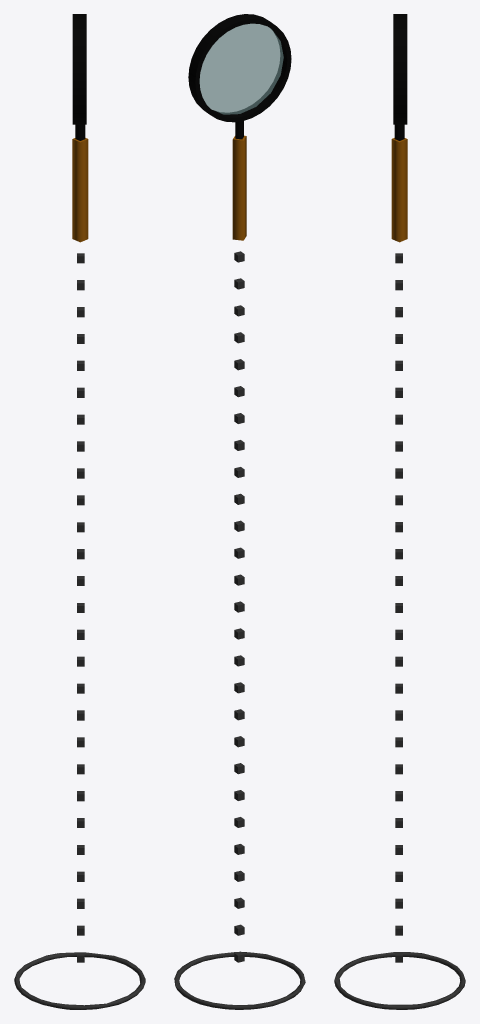
The model's file is Fakos.fbx.
3 renders of one model, left to right at view 1: azimuth 90°, elevation 25°; view 2: azimuth 210°, elevation 25°; view 3: azimuth 270°, elevation 25°, orthographic.
Visible parts, largest first — view 1: kibakia 2 - Copy, frame, xerouli; view 2: glass, kibakia 2 - Copy, frame, xerouli; view 3: kibakia 2 - Copy, frame, xerouli.
Part boxes in pixels (left/top/right/bottom): kibakia 2 - Copy: left=14, top=253, right=145, bottom=1009; frame: left=72, top=14, right=86, bottom=140; xerouli: left=72, top=138, right=88, bottom=242; glass: left=199, top=23, right=283, bottom=114; kibakia 2 - Copy: left=174, top=251, right=305, bottom=1009; frame: left=188, top=14, right=291, bottom=139; xerouli: left=232, top=135, right=246, bottom=240; kibakia 2 - Copy: left=334, top=253, right=465, bottom=1009; frame: left=393, top=14, right=407, bottom=140; xerouli: left=391, top=138, right=407, bottom=242.
Size of the model in its own units: 0.2663 by 0.2662 by 2.15.
